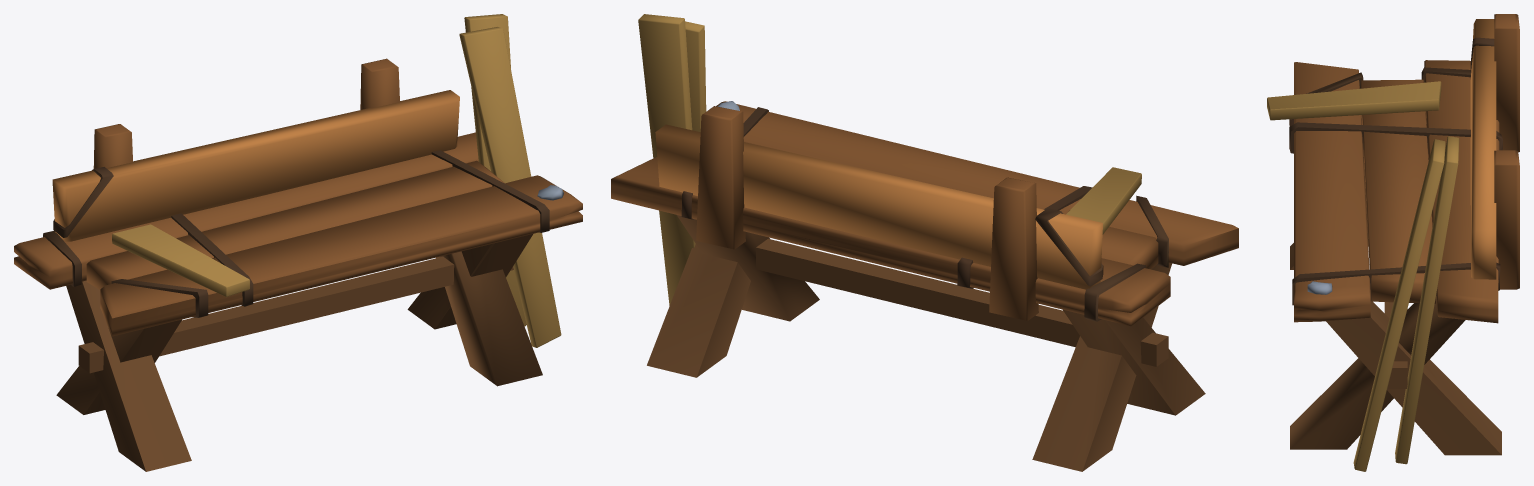
Rendered from Workbench.fbx.
The picture shows the model from 3 angles, left to right: view 1: azimuth 30°, elevation 25°; view 2: azimuth 150°, elevation 25°; view 3: azimuth 270°, elevation 25°; orthographic projection. The views are drawn at different scales.
Visible parts, largest first — view 1: WorkBench; view 2: WorkBench; view 3: WorkBench.
Boxes of the visible parts, bbox=[...] form: WorkBench: bbox=[14, 14, 582, 471]; WorkBench: bbox=[611, 14, 1238, 471]; WorkBench: bbox=[1267, 14, 1519, 471].
Bounding box in the file's own units: 305 × 185 × 133.
